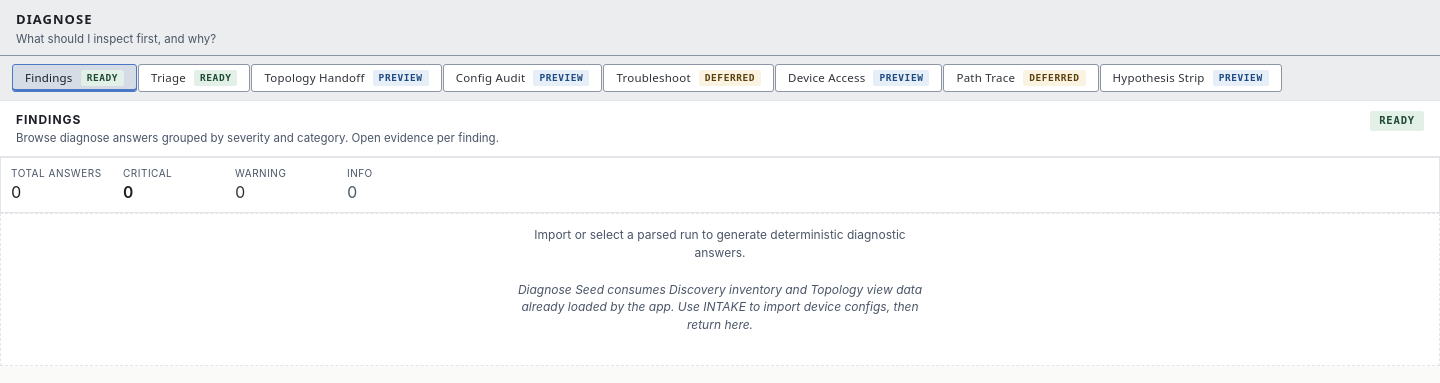
Test case: DiagnoseMode — ModeWorkbenchShell integration › returning to findings restores existing diagnose testid structure
Click the tab with test id "mwb-tool-config_audit". click: (522,78)
box: 443,64 -> 602,92
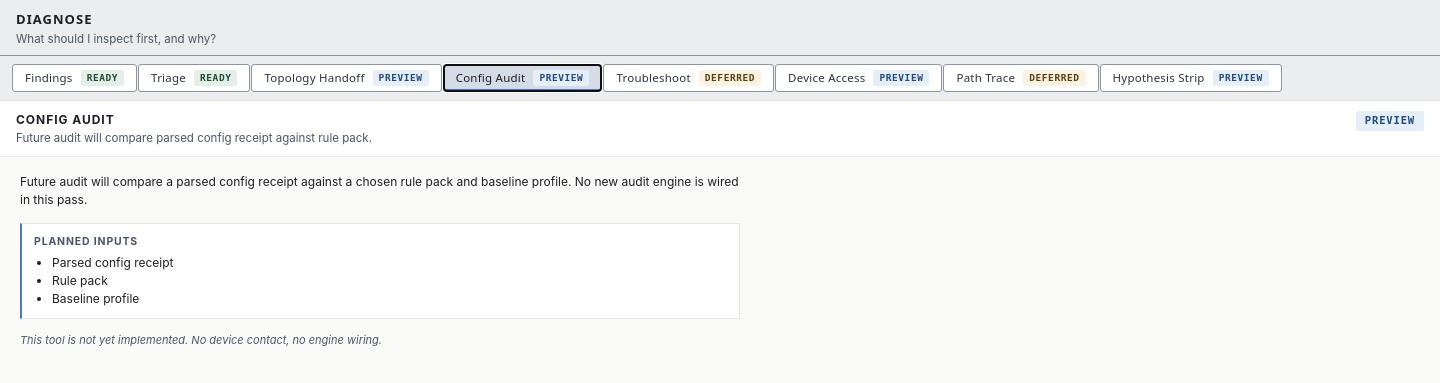
Expected: the element with test id "dx-summary" is gone
Click the tab with test id "mwb-tool-findings". click: (75,78)
box: 12,64 -> 137,92
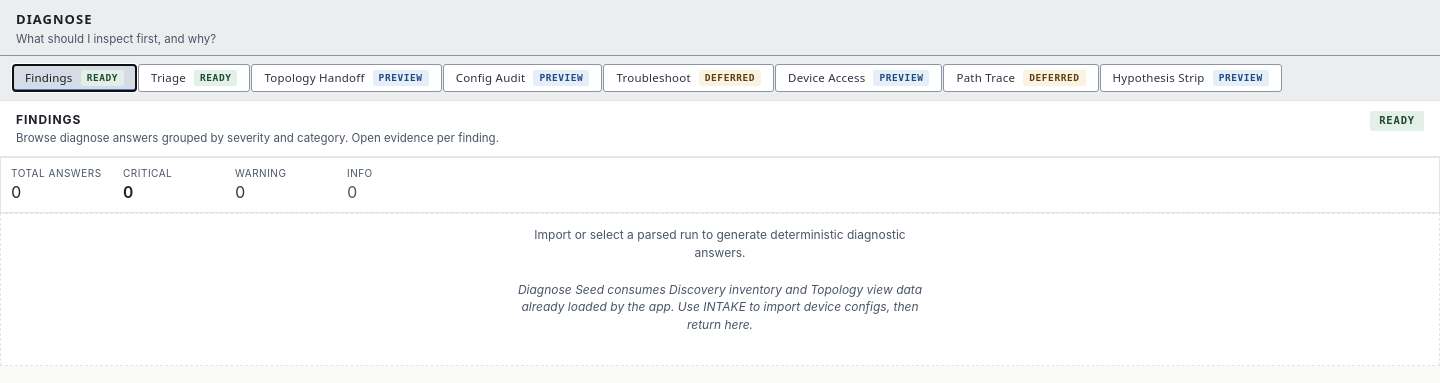
Expected: the element with test id "dx-summary" is shown, 0,157 -> 1439,213
